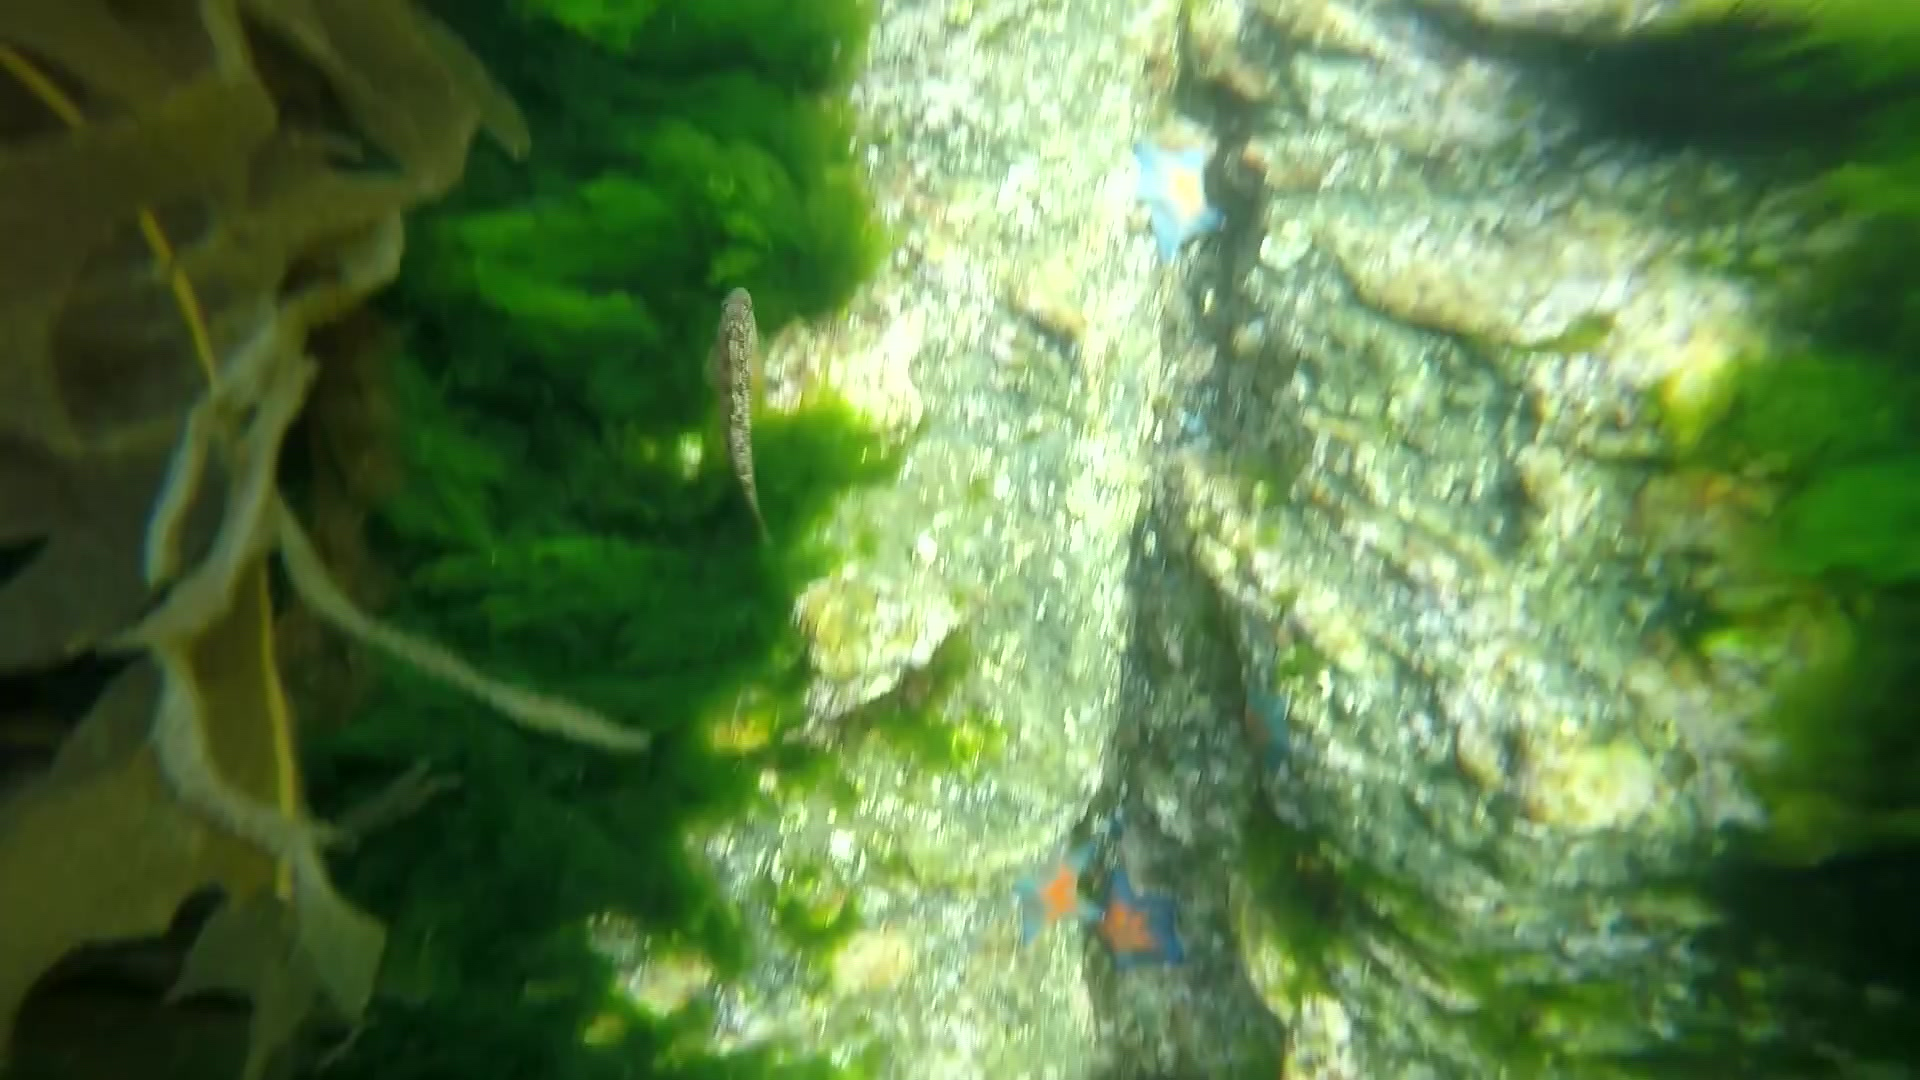starfish: (1127, 131, 1230, 264), (1000, 840, 1095, 932), (1093, 878, 1189, 969), (1232, 680, 1290, 767)
